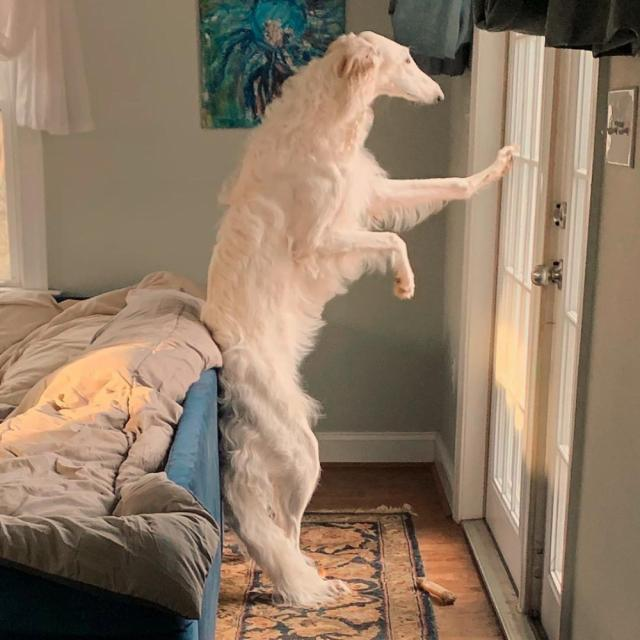Dogs: (205, 33, 522, 613)
